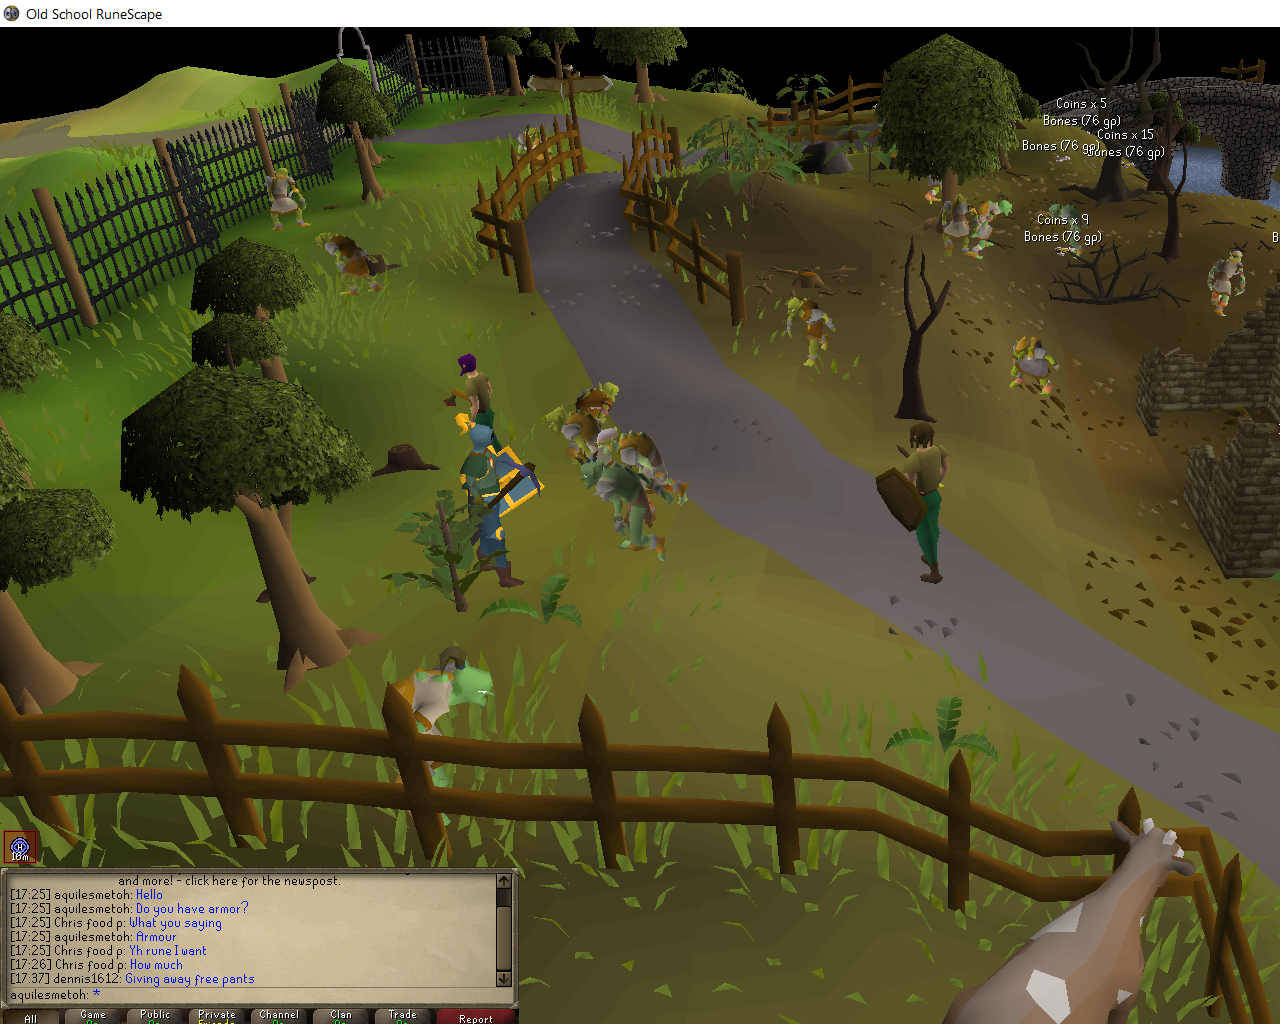Goblin: (375, 639, 496, 828), (573, 450, 667, 562), (594, 429, 689, 506), (313, 231, 387, 296), (784, 296, 838, 368), (259, 166, 313, 232), (1006, 334, 1062, 396), (544, 403, 598, 466), (1203, 246, 1246, 318), (936, 194, 980, 260), (512, 124, 558, 183), (1044, 201, 1085, 259), (973, 191, 1013, 250), (568, 378, 620, 422)
